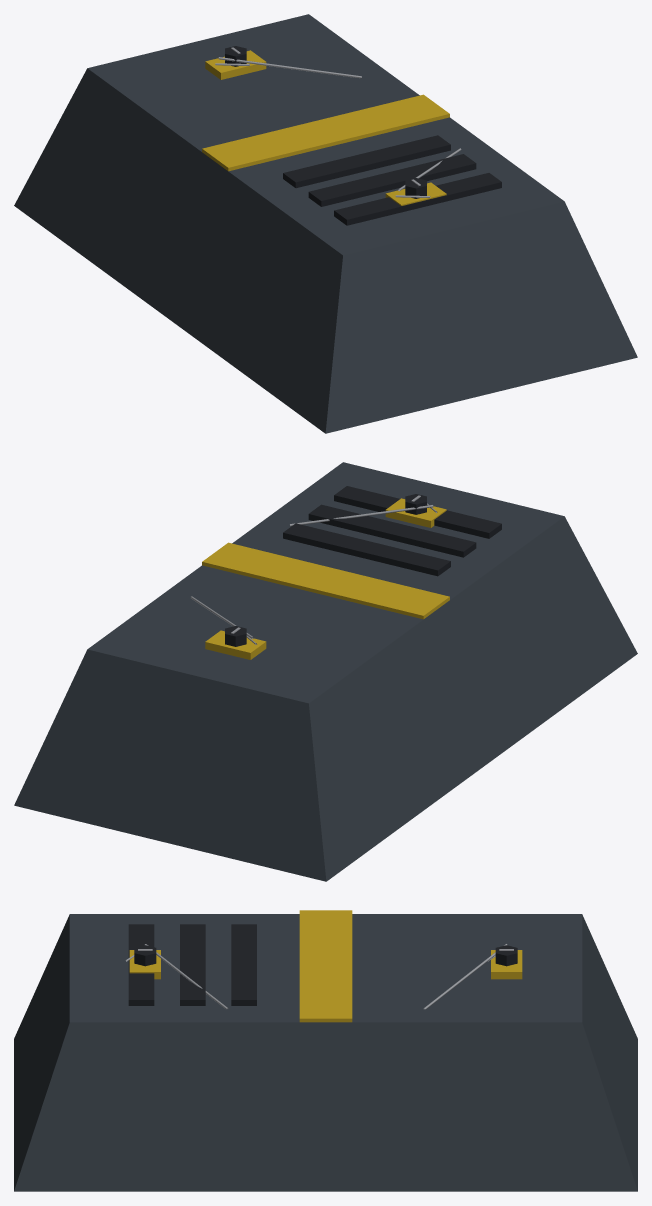
Rendered from b12_seal.obj.
The picture shows the model from 3 angles, top to bottom: view 1: azimuth 30°, elevation 25°; view 2: azimuth 150°, elevation 25°; view 3: azimuth 270°, elevation 25°; orthographic projection.
Parts seen in each view (by area): view 1: b12_seal; view 2: b12_seal; view 3: b12_seal.
Part boxes in pixels (bbox=[...]): b12_seal: bbox=[14, 14, 637, 433]; b12_seal: bbox=[14, 462, 637, 881]; b12_seal: bbox=[14, 910, 637, 1191].
Size of the model in its own units: 1.1 by 0.5564 by 1.9.
